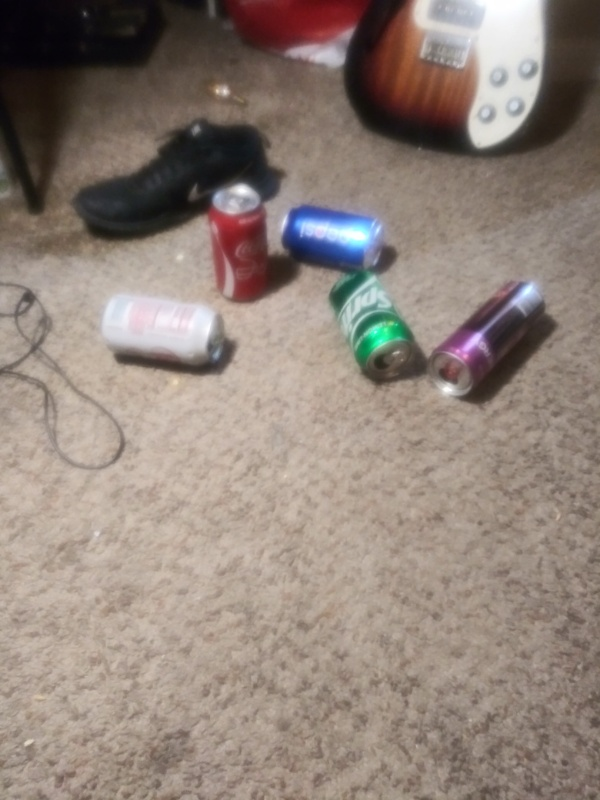can: (426, 278, 548, 402), (95, 290, 227, 374), (331, 271, 422, 386), (206, 181, 276, 304), (278, 204, 389, 274)
